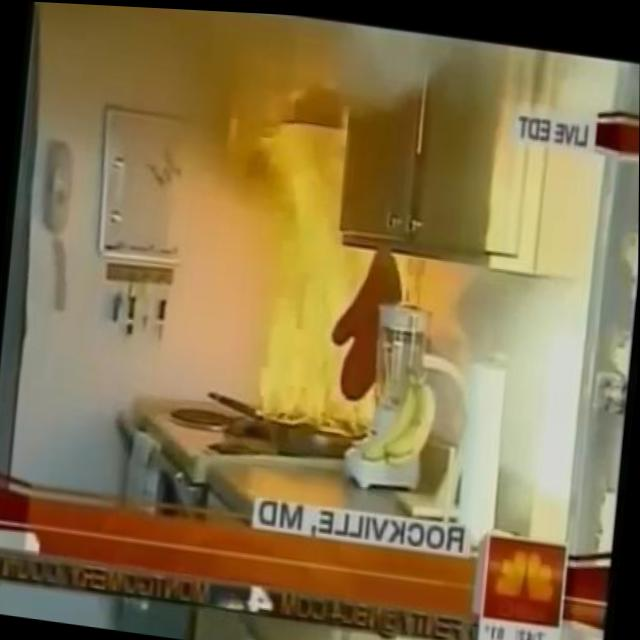fire: (234, 111, 414, 436)
